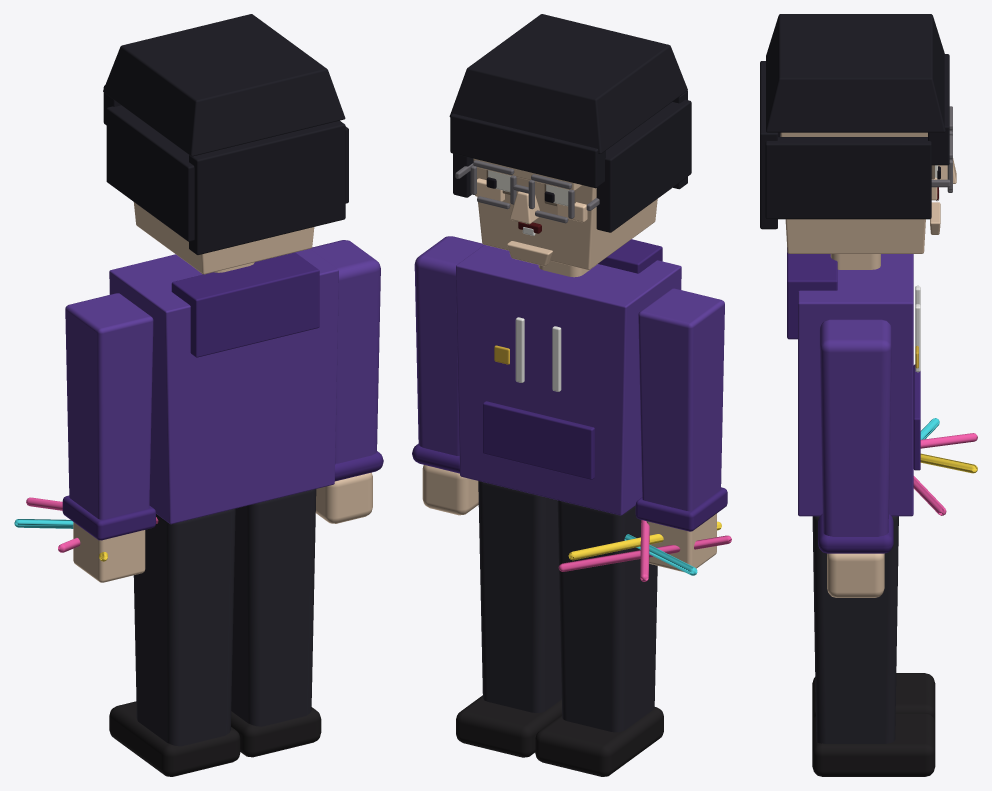
File: goblin.glb
3 views of the same model, side by side, from view 1: azimuth 30°, elevation 25°; view 2: azimuth 150°, elevation 25°; view 3: azimuth 270°, elevation 25° (orthographic). The views are drawn at different scales.
Parts seen in each view (by area): view 1: Head, Torso, LegL, ArmL, LegR, ArmR; view 2: Head, Torso, ArmL, LegL, LegR, ArmR; view 3: Head, ArmR, LegR, Torso, LegL, ArmL, NeckMesh.
Part boxes in pixels (box(x1,y1,x2,y2)): Head: box(103, 14, 348, 274); Torso: box(109, 249, 338, 524); LegL: box(109, 508, 240, 776); ArmL: box(14, 293, 158, 582); LegR: box(231, 489, 321, 757); ArmR: box(310, 240, 383, 523); Head: box(449, 14, 691, 269); Torso: box(456, 239, 681, 515); ArmL: box(558, 288, 731, 581); LegL: box(535, 500, 663, 776); LegR: box(456, 481, 562, 757); ArmR: box(412, 236, 483, 515); Head: box(760, 14, 956, 253); ArmR: box(818, 319, 893, 597); LegR: box(812, 516, 935, 776); Torso: box(787, 247, 920, 516); LegL: box(812, 673, 935, 722); ArmL: box(913, 418, 977, 515); NeckMesh: box(830, 254, 880, 269).
Bounding box in the file's own units: 1.01 × 2.13 × 0.6032.
